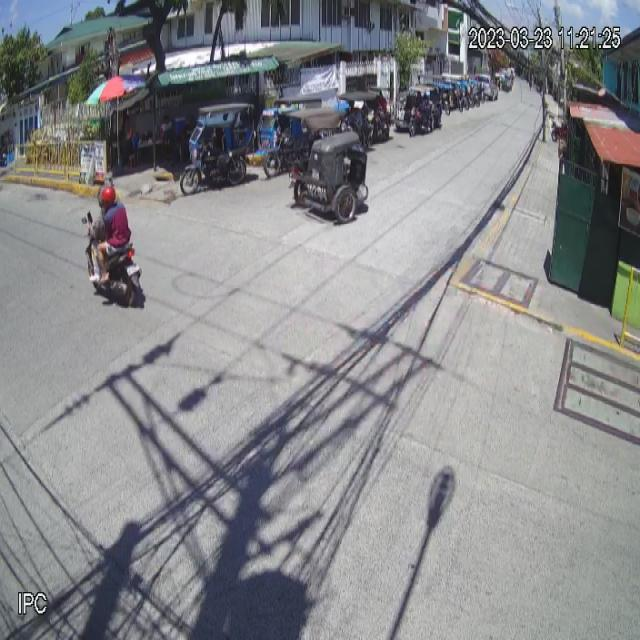Motorcycle: (80, 211, 142, 312)
Tricycle: (286, 105, 369, 222)
